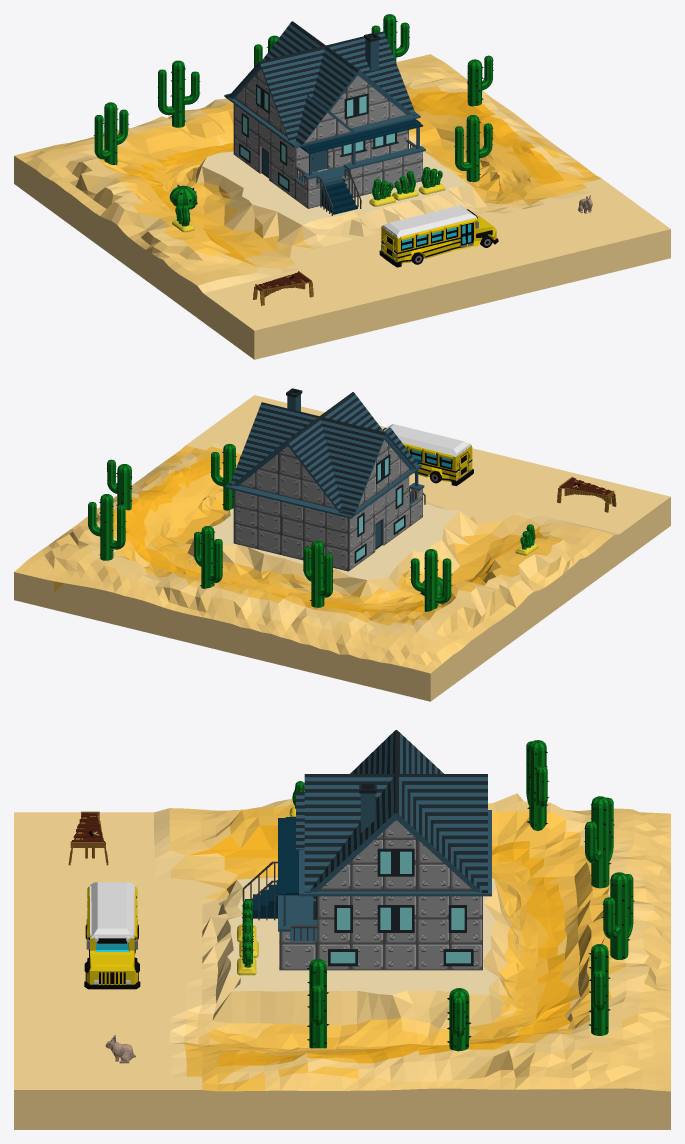
3 renders of one model, top to bottom at view 1: azimuth 30°, elevation 25°; view 2: azimuth 150°, elevation 25°; view 3: azimuth 270°, elevation 25°, orthographic. The views are drawn at different scales.
Parts seen in each view (by area): view 1: Cube.001, Cube.078, VEHICLES_SCHOOL_BUS, Cylinder.037, Cylinder.044, Cylinder.045, Cylinder.038, OBJRANDOM_MARIMBA, Cylinder.042, Cylinder.039, Cylinder.041, Sphere.023 (+1 smaller); view 2: Cube.001, Cube.078, VEHICLES_SCHOOL_BUS, Cylinder.042, Cylinder.045, Cylinder.044, Cylinder.043, Cylinder.037, Cylinder.038, OBJRANDOM_MARIMBA; view 3: Cube.001, Cube.078, VEHICLES_SCHOOL_BUS, Cylinder.043, Cylinder.044, Cylinder.045, Cylinder.042, Cylinder.037, Cylinder.038, OBJRANDOM_MARIMBA, Cylinder.041.
Boxes of the visible parts, x1=… form: Cube.001: x1=14, y1=54, x2=670, y2=359; Cube.078: x1=224, y1=21, x2=425, y2=215; VEHICLES_SCHOOL_BUS: x1=379, y1=205, x2=498, y2=267; Cylinder.037: x1=454, y1=115, x2=493, y2=182; Cylinder.044: x1=157, y1=60, x2=200, y2=127; Cylinder.045: x1=93, y1=102, x2=129, y2=164; Cylinder.038: x1=467, y1=55, x2=493, y2=106; OBJRANDOM_MARIMBA: x1=253, y1=271, x2=313, y2=305; Cylinder.042: x1=371, y1=14, x2=409, y2=62; Cylinder.039: x1=369, y1=179, x2=395, y2=206; Cylinder.041: x1=418, y1=167, x2=445, y2=194; Sphere.023: x1=169, y1=184, x2=197, y2=209; Cube.001: x1=14, y1=395, x2=670, y2=701; Cube.078: x1=225, y1=388, x2=425, y2=571; VEHICLES_SCHOOL_BUS: x1=383, y1=424, x2=473, y2=485; Cylinder.042: x1=88, y1=494, x2=126, y2=560; Cylinder.045: x1=410, y1=549, x2=452, y2=611; Cylinder.044: x1=303, y1=540, x2=333, y2=607; Cylinder.043: x1=193, y1=526, x2=222, y2=588; Cylinder.037: x1=211, y1=444, x2=240, y2=510; Cylinder.038: x1=107, y1=459, x2=131, y2=510; OBJRANDOM_MARIMBA: x1=557, y1=477, x2=616, y2=512; Cube.001: x1=14, y1=793, x2=670, y2=1129; Cube.078: x1=242, y1=730, x2=491, y2=970; VEHICLES_SCHOOL_BUS: x1=84, y1=882, x2=140, y2=989; Cylinder.043: x1=602, y1=872, x2=634, y2=959; Cylinder.044: x1=584, y1=796, x2=614, y2=888; Cylinder.045: x1=526, y1=740, x2=549, y2=830; Cylinder.042: x1=588, y1=944, x2=610, y2=1035; Cylinder.037: x1=307, y1=959, x2=329, y2=1048; Cylinder.038: x1=447, y1=988, x2=471, y2=1051; OBJRANDOM_MARIMBA: x1=68, y1=811, x2=108, y2=865; Cylinder.041: x1=237, y1=932, x2=256, y2=975.
Size of the model in its own units: 4002 by 1627 by 4001.
41 materials, 4 textured.
